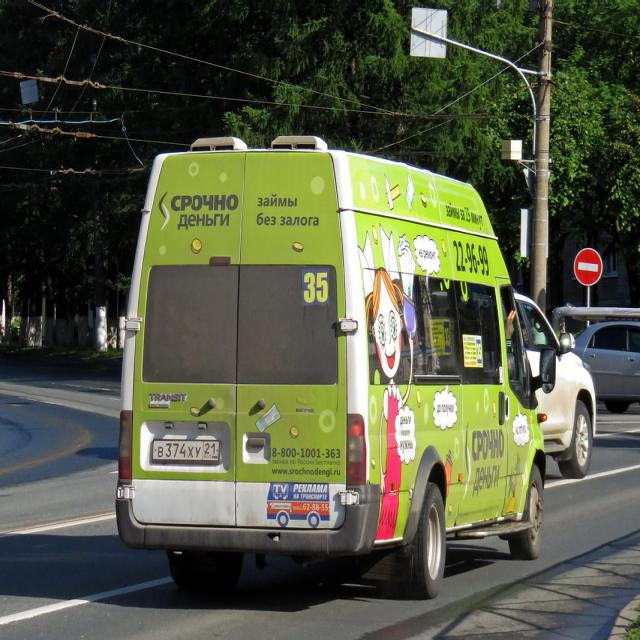number-of-bus: (303, 270, 330, 305)
